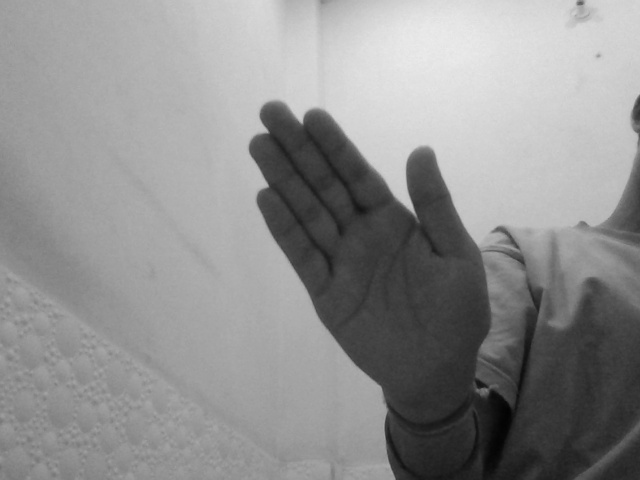Hello: (243, 95, 490, 407)
